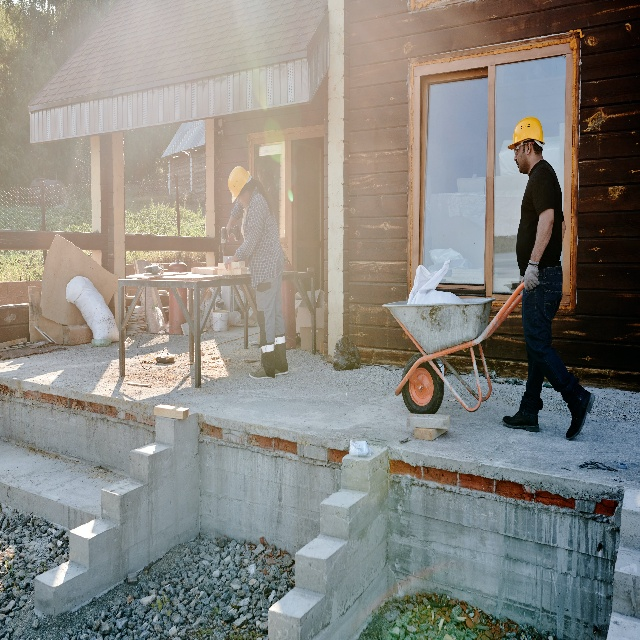Gafas: (514, 141, 534, 156)
Guantes: (520, 259, 540, 291)
Sin_guantes: (224, 255, 234, 271), (226, 222, 233, 243)
